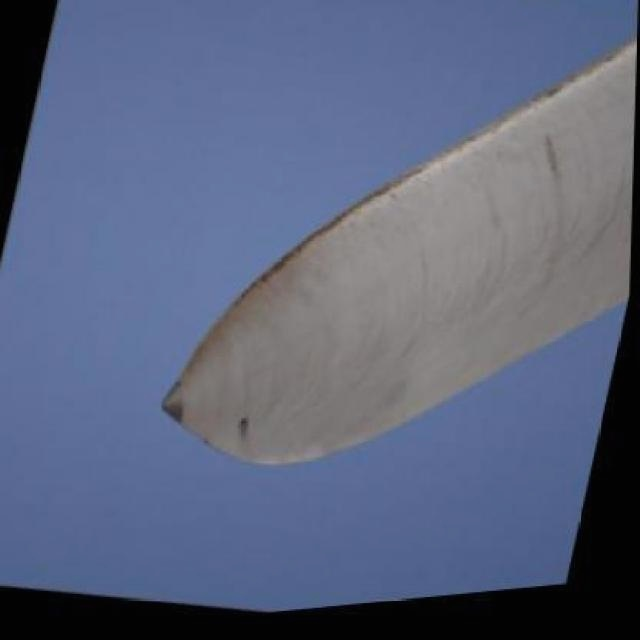Burn Mark: (237, 424, 249, 442)
EROSION: (403, 42, 637, 194), (227, 160, 410, 313)
